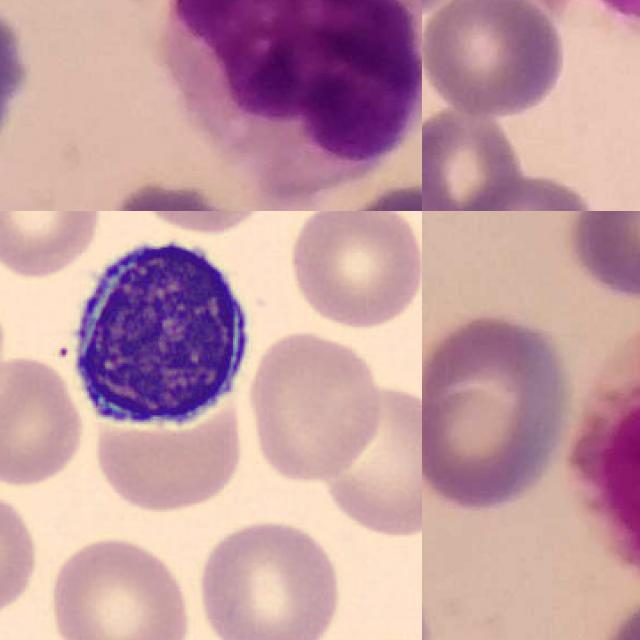Eosinophil: (567, 297, 640, 593)
Lymphocyte: (61, 227, 260, 435)
Monocyte: (170, 0, 422, 201)
RBC: (244, 327, 384, 485), (192, 515, 346, 640), (284, 211, 422, 332), (42, 531, 195, 640), (320, 380, 422, 542), (0, 356, 87, 487), (0, 211, 104, 279), (0, 483, 42, 623)
